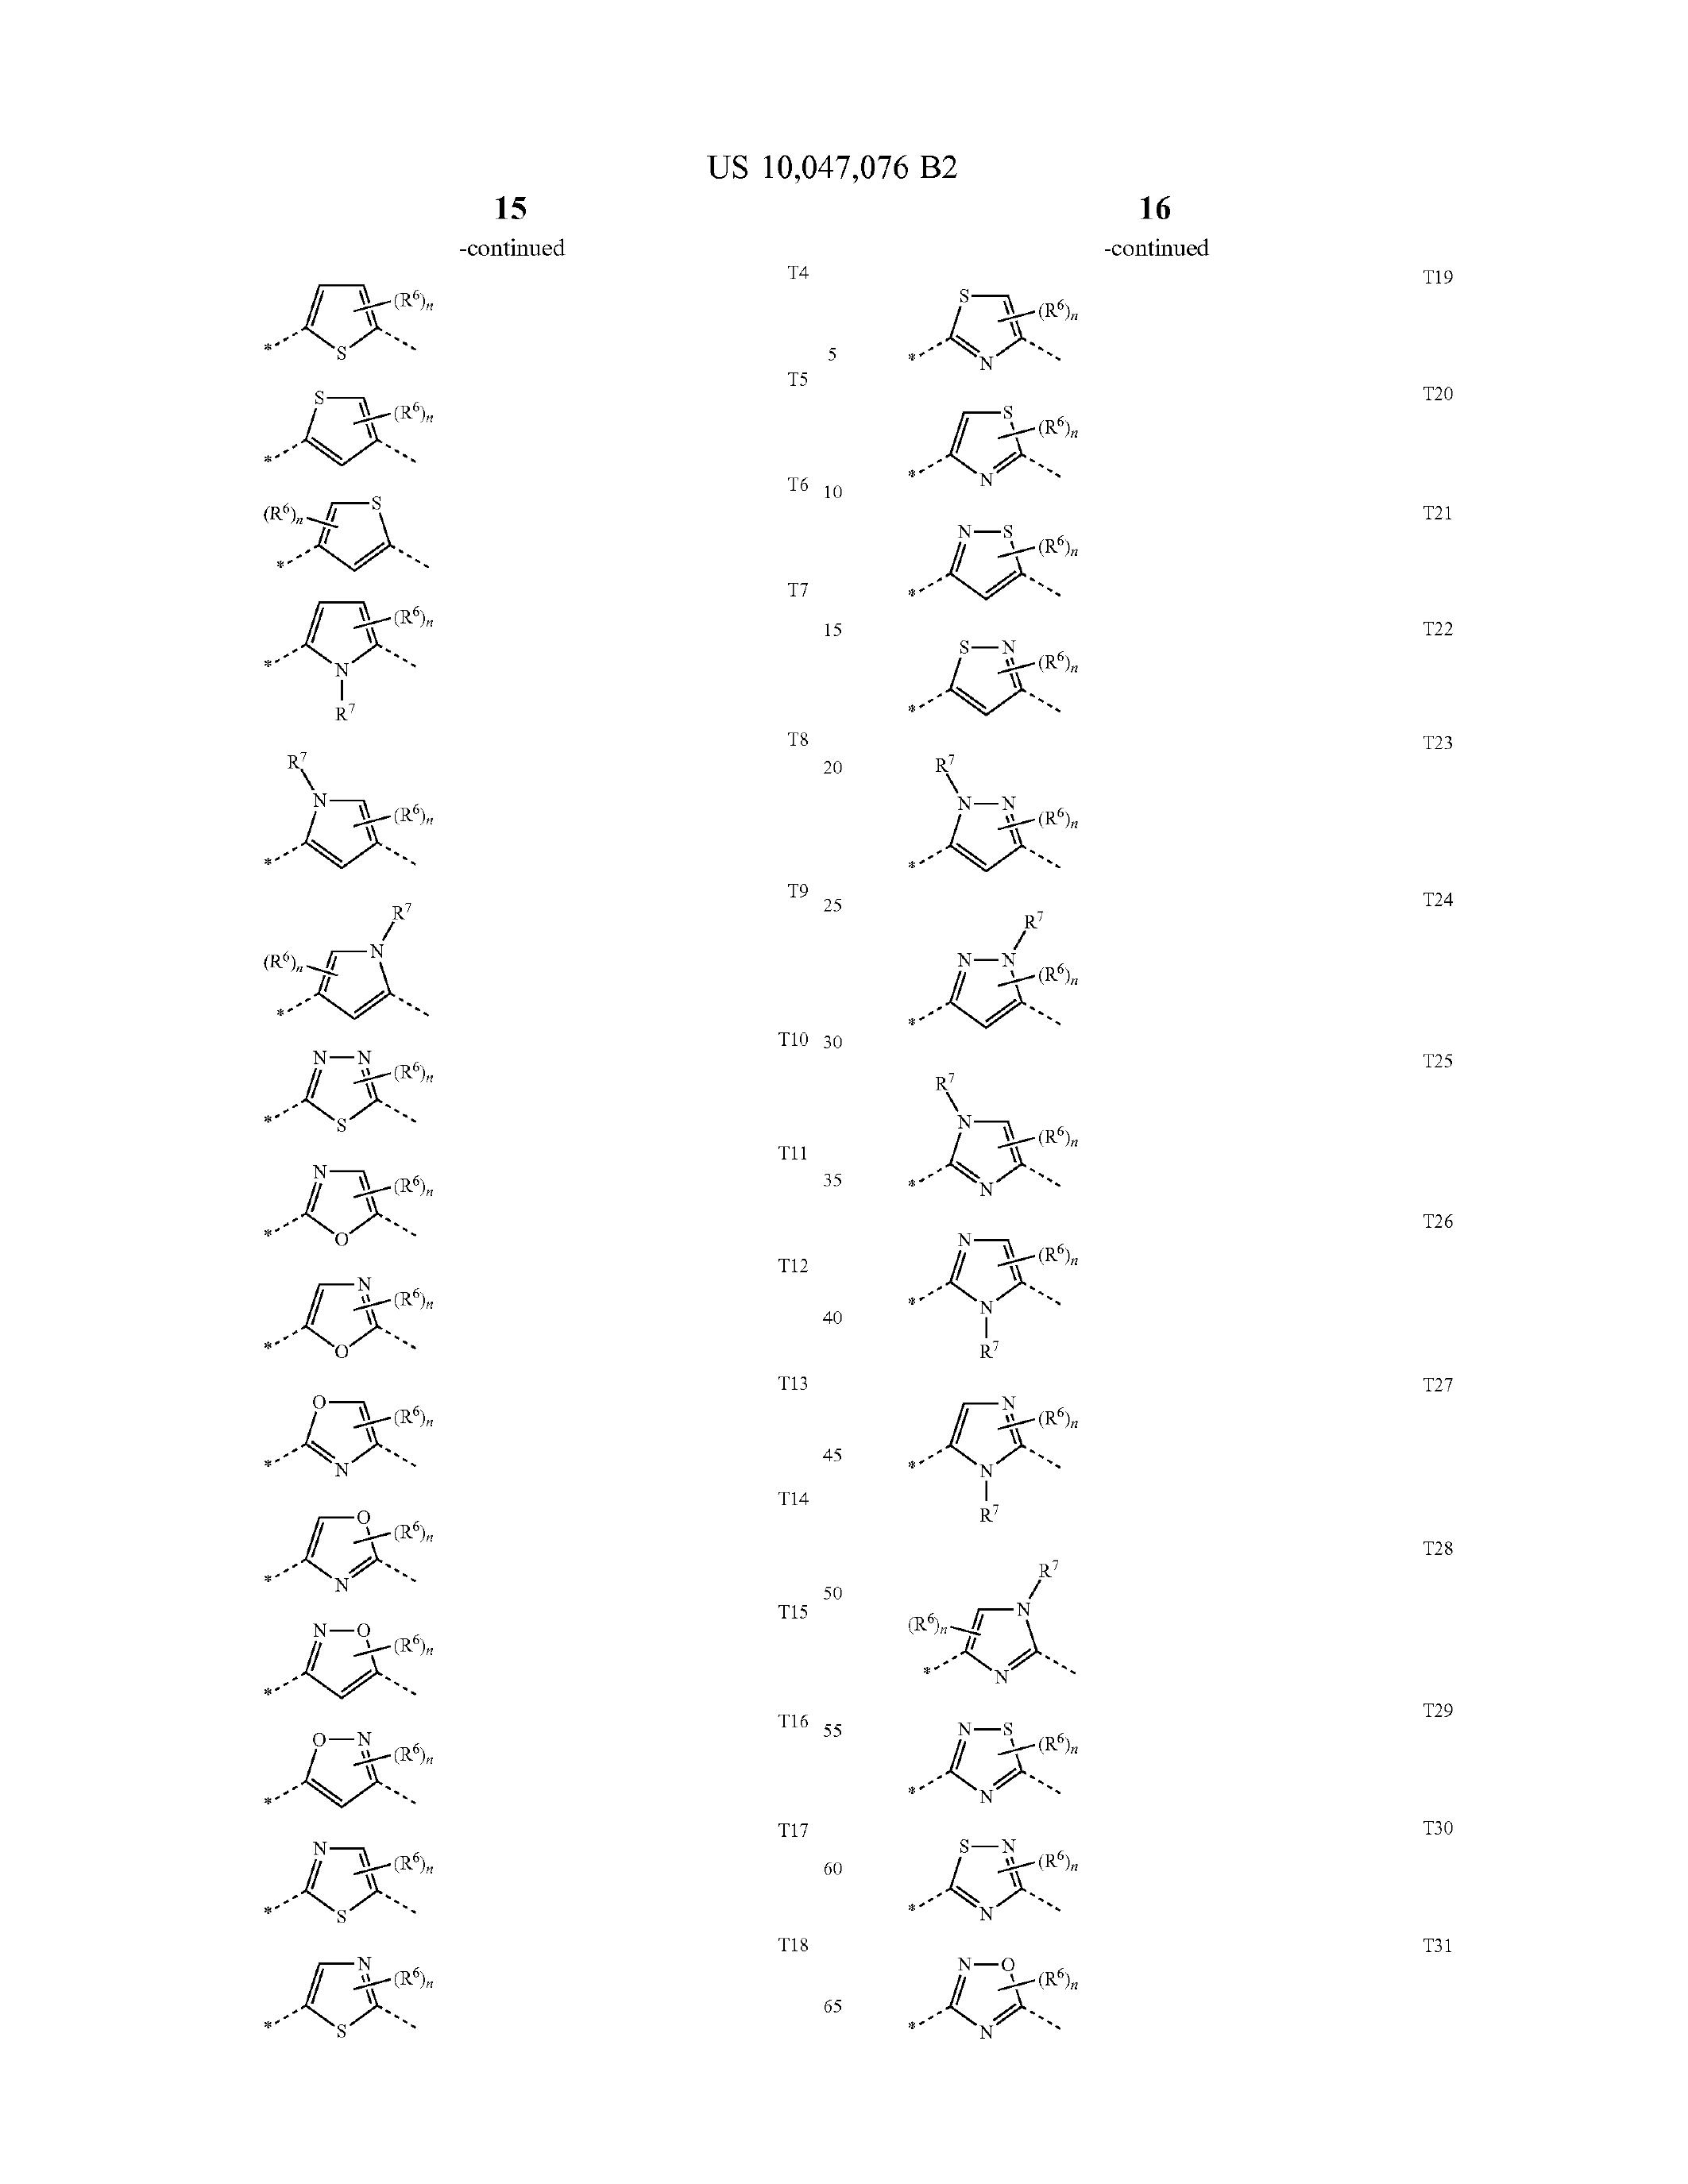intermediates: (856, 253, 1122, 496), (231, 1829, 456, 2067)
